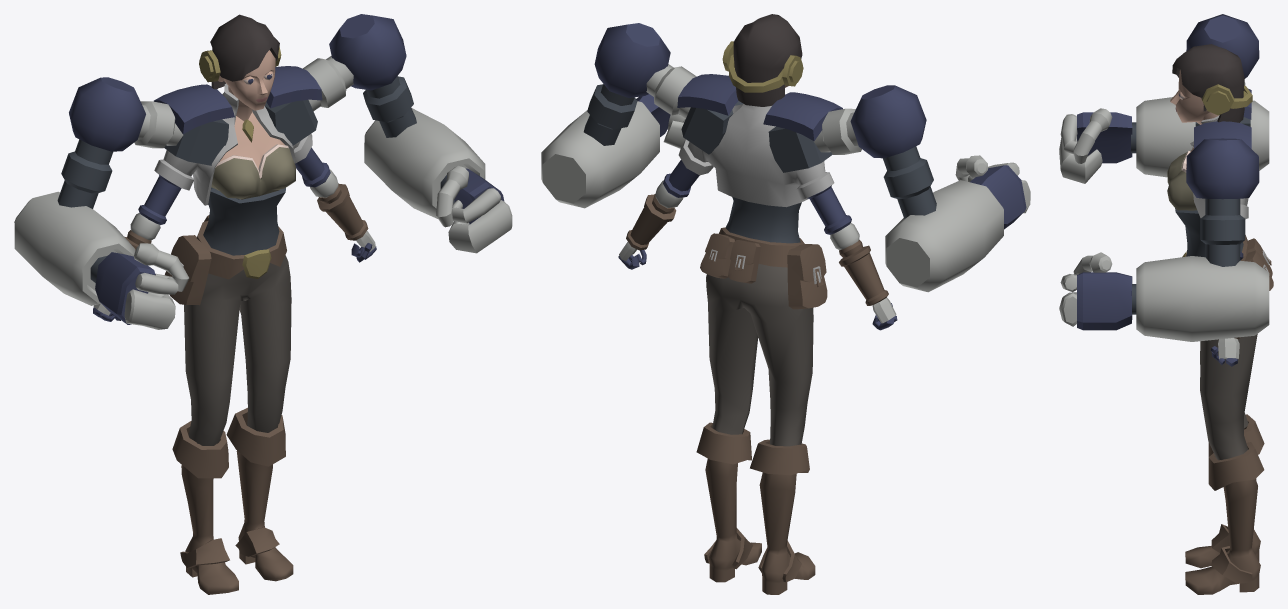
File: bennet.fbx
The picture shows the model from 3 angles, left to right: view 1: azimuth 30°, elevation 25°; view 2: azimuth 150°, elevation 25°; view 3: azimuth 270°, elevation 25°; orthographic projection. The views are drawn at different scales.
Parts seen in each view (by area): view 1: pCube21, polySurface16, polySurface37, polySurface47, polySurface39, polySurface49, polySurface5, pCube45, polySurface3, pCube17, polySurface4, polySurface38 (+22 smaller); view 2: pCube21, polySurface16, polySurface37, polySurface3, polySurface47, polySurface39, pCube17, polySurface49, pCube45, polySurface6, polySurface38, polySurface5 (+16 smaller); view 3: polySurface47, polySurface16, pCube21, polySurface37, polySurface49, pCube17, polySurface44, polySurface48, polySurface39, polySurface34, pCube45, polySurface4 (+11 smaller).
Part boxes in pixels (x1,y1,x2,y2): pCube21: (184, 255, 291, 445); polySurface16: (172, 407, 293, 594); polySurface37: (14, 191, 135, 305); polySurface47: (364, 108, 485, 218); polySurface39: (69, 77, 145, 151); polySurface49: (329, 14, 406, 90); polySurface5: (203, 187, 285, 255); pCube45: (153, 66, 322, 134); polySurface3: (154, 83, 312, 205); pCube17: (210, 14, 279, 89); polySurface4: (211, 147, 295, 199); polySurface38: (57, 139, 113, 208); pCube21: (706, 264, 813, 446); polySurface16: (696, 422, 815, 594); polySurface37: (885, 180, 1003, 292); polySurface3: (678, 104, 834, 207); polySurface47: (541, 101, 659, 208); polySurface39: (850, 85, 926, 158); pCube17: (733, 14, 802, 106); polySurface49: (594, 23, 670, 97); pCube45: (677, 74, 842, 140); polySurface6: (626, 194, 888, 305); polySurface38: (883, 146, 936, 218); polySurface5: (725, 197, 801, 243); polySurface47: (1136, 256, 1269, 341); polySurface16: (1185, 414, 1264, 594); pCube21: (1200, 334, 1257, 460); polySurface37: (1136, 97, 1269, 177); polySurface49: (1186, 138, 1259, 199); pCube17: (1172, 44, 1244, 122); polySurface44: (1077, 272, 1132, 330); polySurface48: (1200, 198, 1245, 266); polySurface39: (1186, 14, 1259, 78); polySurface34: (1077, 112, 1132, 163); pCube45: (1194, 88, 1251, 148); polySurface4: (1167, 152, 1196, 210).
Bounding box in the file's own units: 6.67 × 8.43 × 3.1.
